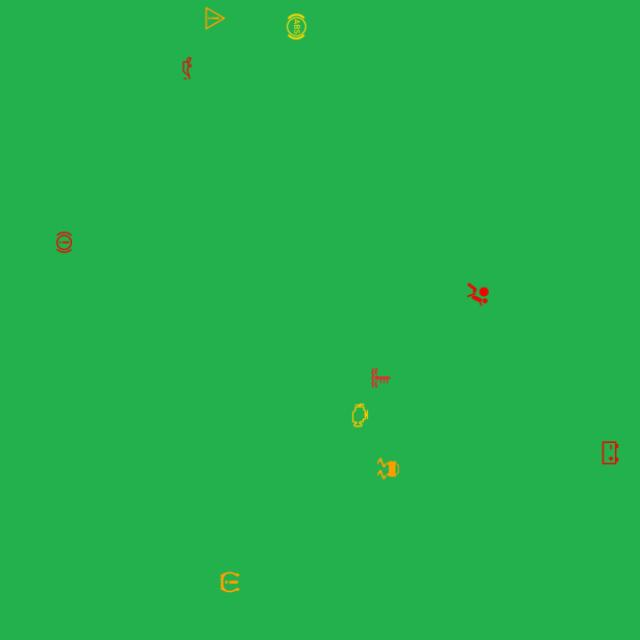Anti Lock Braking System: (282, 12, 310, 40)
Braking System Issue: (50, 228, 78, 256)
Charging System Issue: (596, 439, 624, 467)
Check Engine: (346, 402, 374, 429)
Electronic Stability Problem -ESP-: (374, 454, 402, 482)
Engine Overheating Warning Light: (367, 364, 395, 392)
Low Engine Oil Warning Light: (173, 54, 201, 82)
Low Tire Pressure Warning Light: (216, 568, 244, 596)
Master warning light: (201, 4, 229, 32)
SRS-Airbag: (464, 280, 492, 308)
